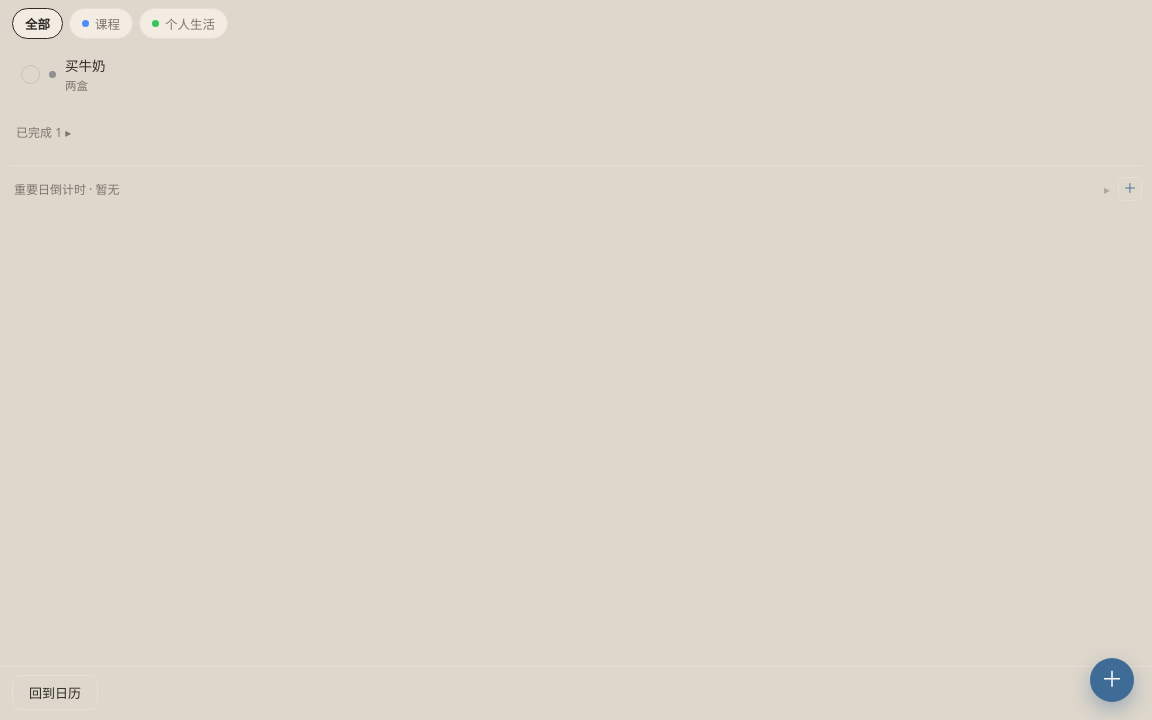
TodoView › 已完成收在折叠区里，不混在正常列表
Click the button "已完成 1 ▸" at (44, 132), box [12,117,75,147]
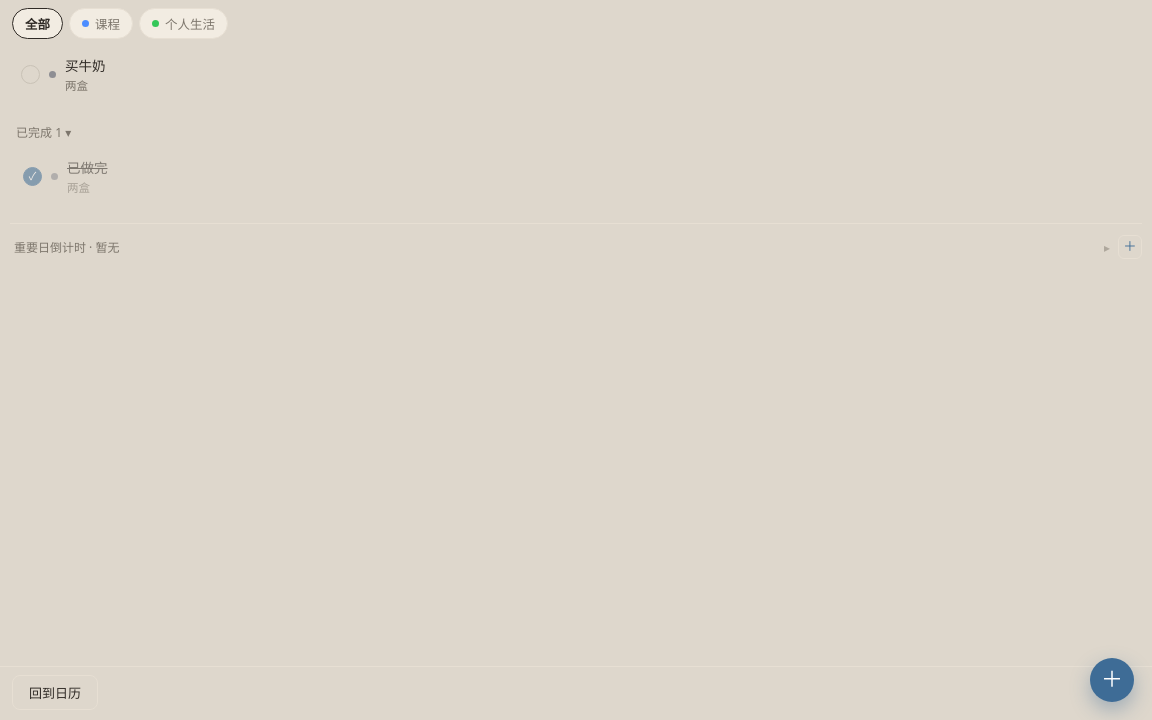
Check: the button with test id "todo-row-t2" is shown, box [23,159,108,195]
